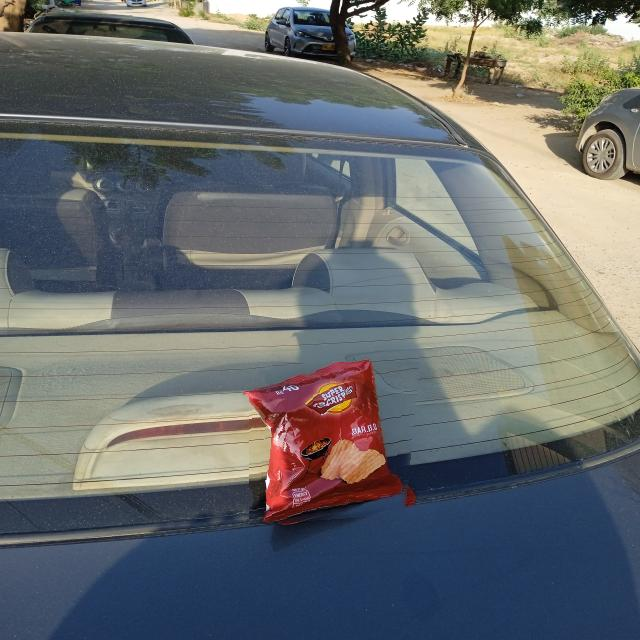Plastic: (249, 362, 421, 526)
